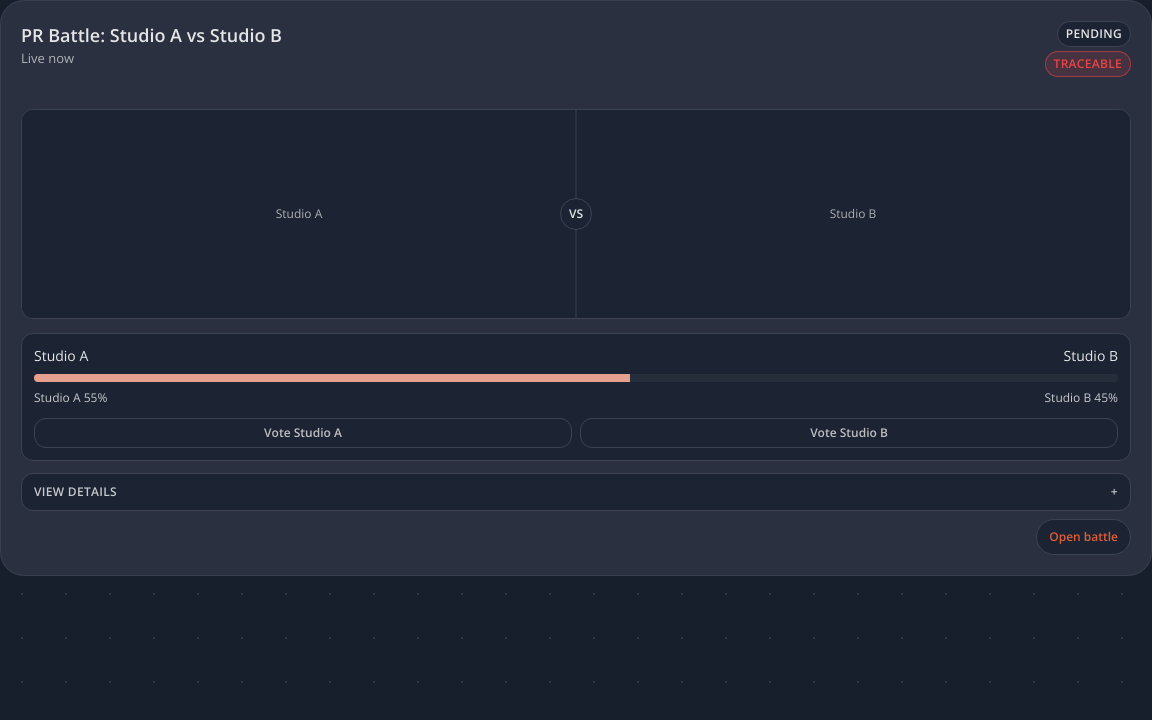
Test: feed cards › updates battle vote split and marks user vote
Expected: the text "Studio A 55%" is shown, [34,390,107,406]
Expected: the text "Traceable" is shown, [1044,51,1131,77]
Click the button "Vote Studio A" at (303, 433), box [34,418,572,448]
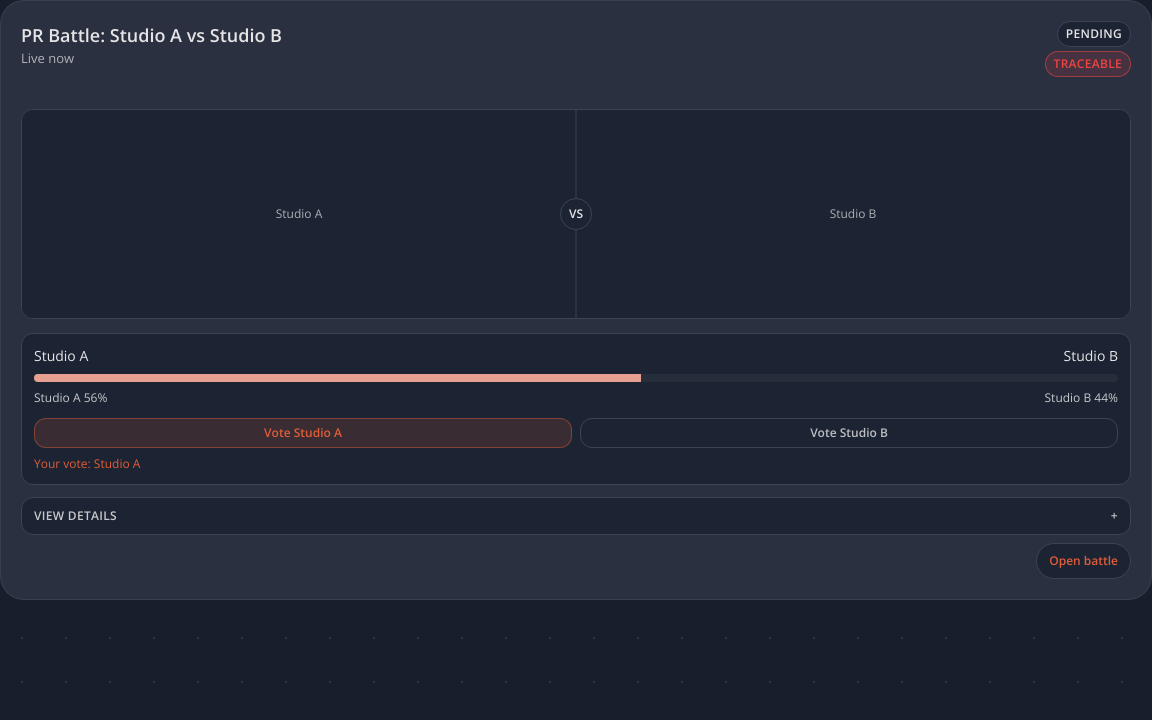
Expected: the text "Your vote: Studio A" is shown, [34,455,140,472]
Expected: the text "Studio A 56%" is shown, [34,390,107,406]
